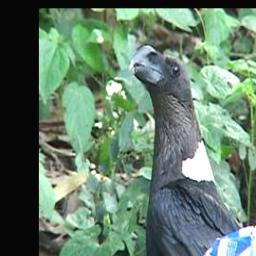Crow: (128, 46, 253, 256)
